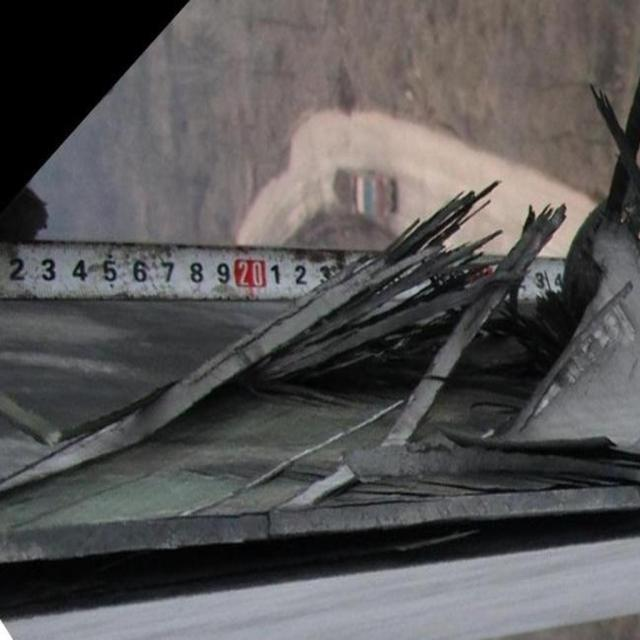crack: (45, 250, 589, 554)
